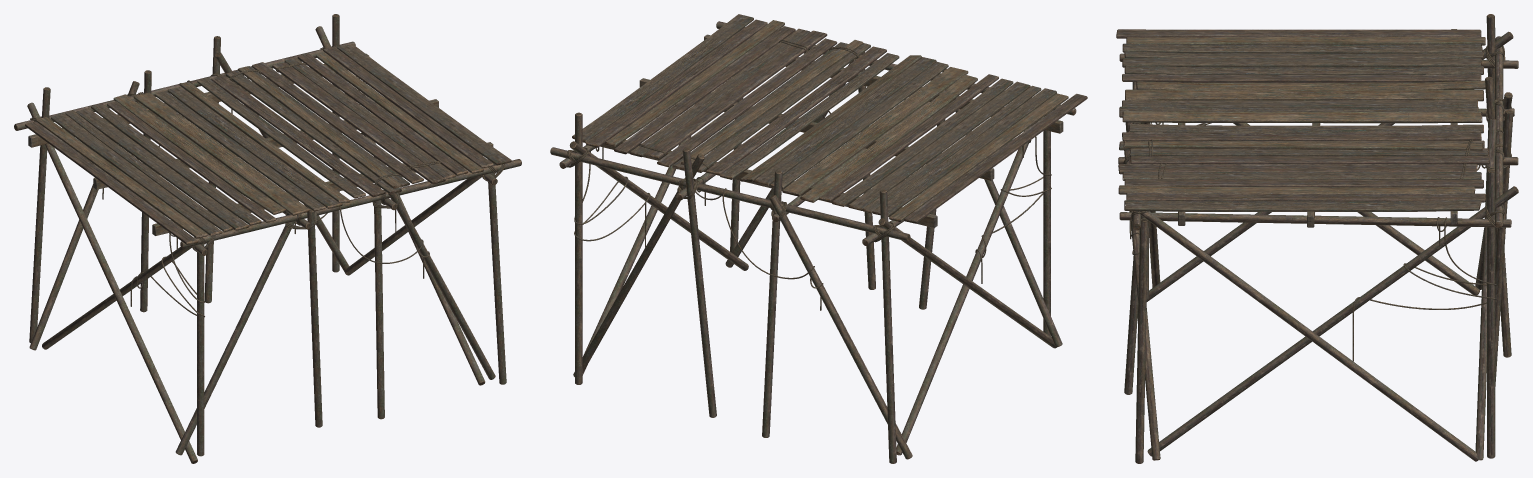
Rendered from SM_Construction_v2_8x9_01.fbx.
3 renders of one model, left to right at view 1: azimuth 30°, elevation 25°; view 2: azimuth 150°, elevation 25°; view 3: azimuth 270°, elevation 25°, orthographic. The views are drawn at different scales.
Visible parts, largest first — view 1: SM_Construction_v2_8x9_01_LOD0; view 2: SM_Construction_v2_8x9_01_LOD0; view 3: SM_Construction_v2_8x9_01_LOD0.
Boxes of the visible parts, x1,y1,x2,y2 form: SM_Construction_v2_8x9_01_LOD0: (14, 14, 521, 463); SM_Construction_v2_8x9_01_LOD0: (550, 14, 1087, 463); SM_Construction_v2_8x9_01_LOD0: (1116, 14, 1518, 463).
Bounding box in the file's own units: 933 × 831 × 671.
1 material, 1 textured.
